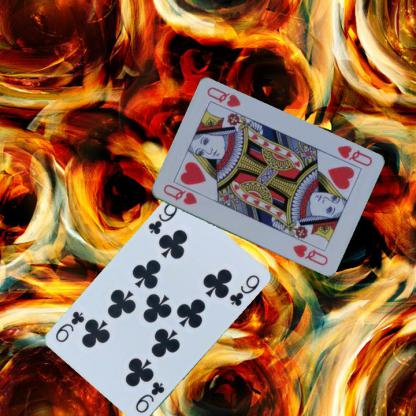9c: (132, 379, 166, 415), (145, 200, 179, 236)
Qh: (334, 142, 373, 168), (160, 182, 198, 206)
